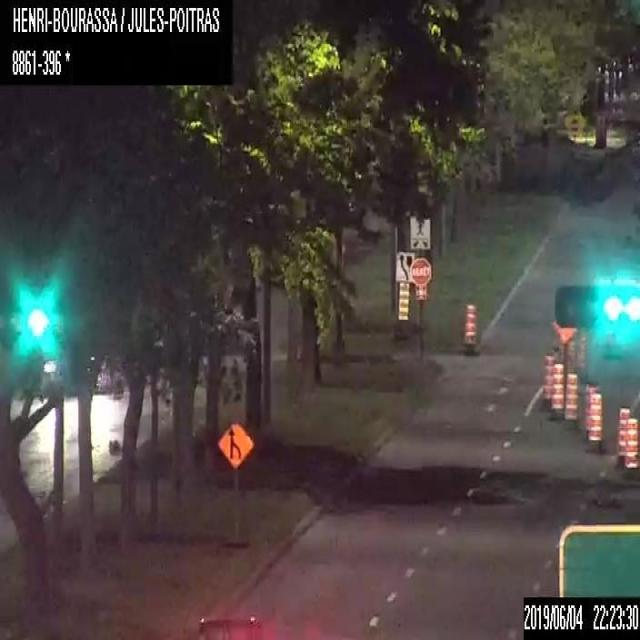construction: (218, 419, 253, 545), (552, 319, 576, 369), (614, 405, 632, 461), (586, 392, 603, 447), (548, 361, 564, 419), (564, 371, 579, 427), (584, 383, 598, 443), (463, 302, 479, 354), (623, 417, 639, 468), (542, 352, 554, 406)
vehicle: (187, 613, 286, 639)
